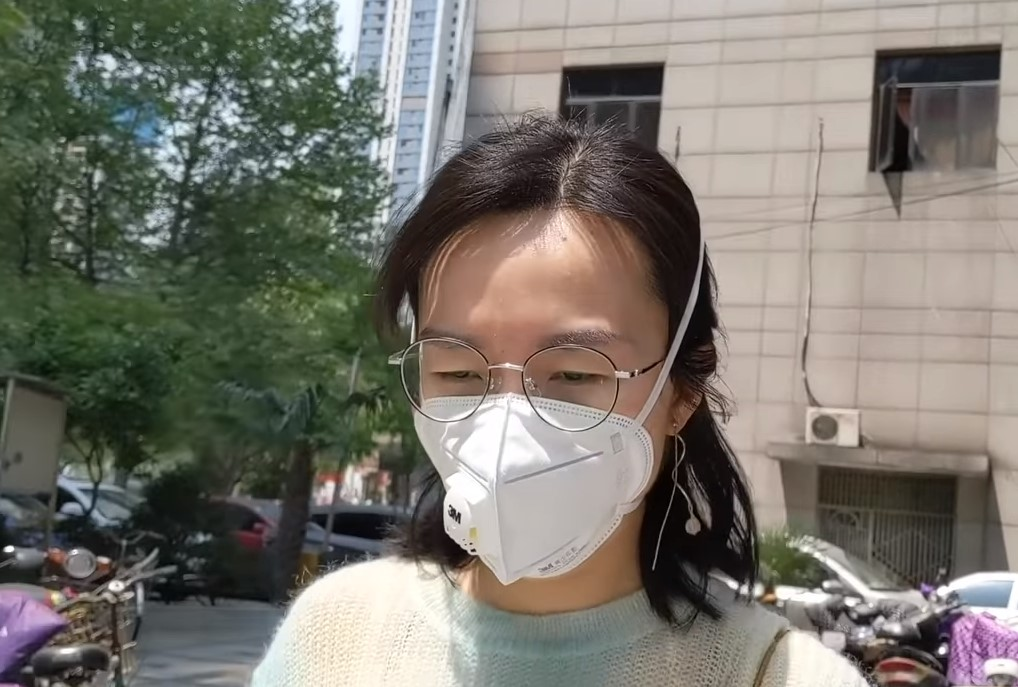face_with_mask: (408, 186, 682, 585)
